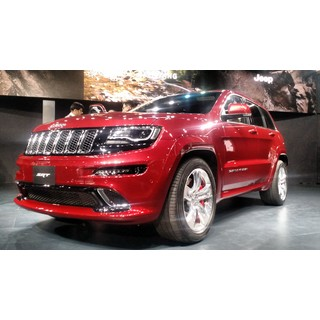car: (12, 90, 289, 246)
